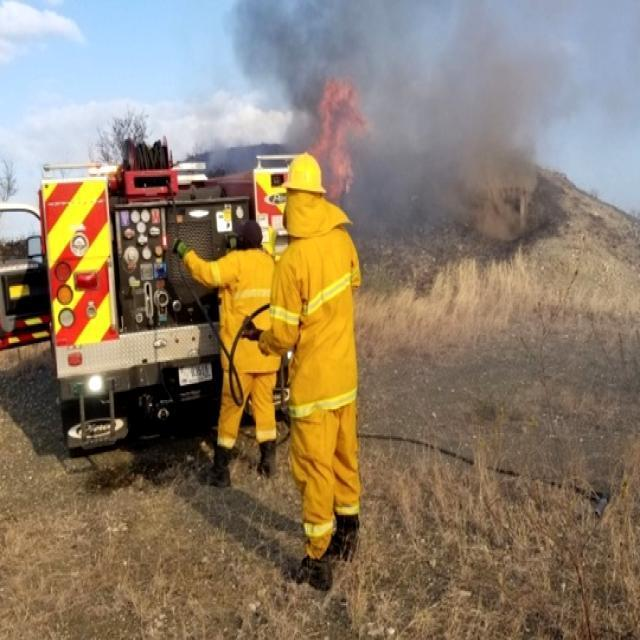Smoke: (260, 0, 581, 248)
